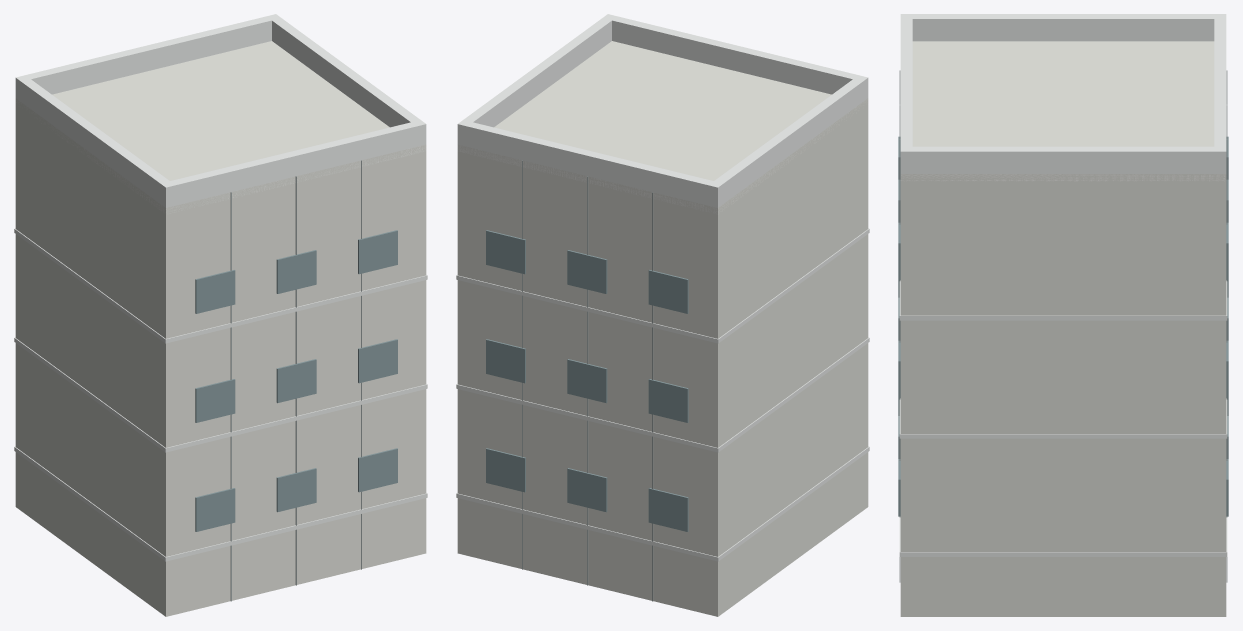
File: tower-8.glb
3 renders of one model, left to right at view 1: azimuth 30°, elevation 25°; view 2: azimuth 150°, elevation 25°; view 3: azimuth 270°, elevation 25°, orthographic. The views are drawn at different scales.
Parts seen in each view (by area): view 1: tower-8; view 2: tower-8; view 3: tower-8.
Boxes of the visible parts, bbox=[...] form: tower-8: bbox=[14, 14, 427, 616]; tower-8: bbox=[456, 14, 869, 616]; tower-8: bbox=[898, 14, 1228, 616].
Size of the model in its own units: 8.05 by 12.6 by 8.1.
